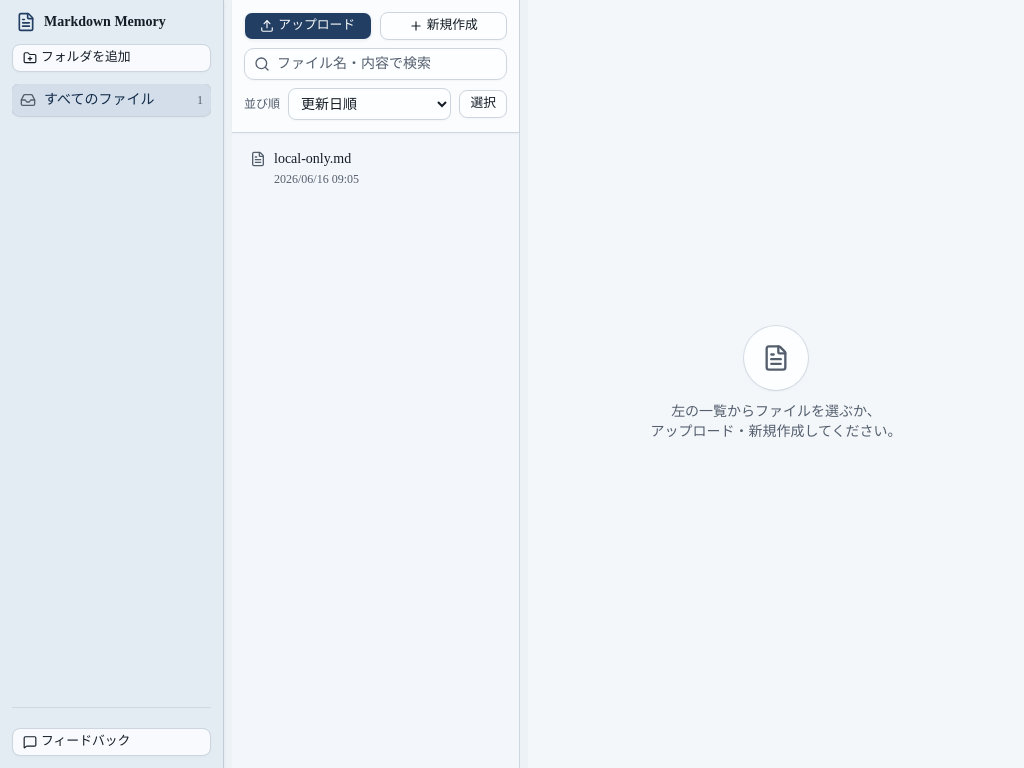
MarkdownWorkspace › 本文検索に失敗した場合はエラーと空結果を表示する
In the field labelled "ファイル名・内容で検索": (376, 64) [244,48,507,80], type "needle"
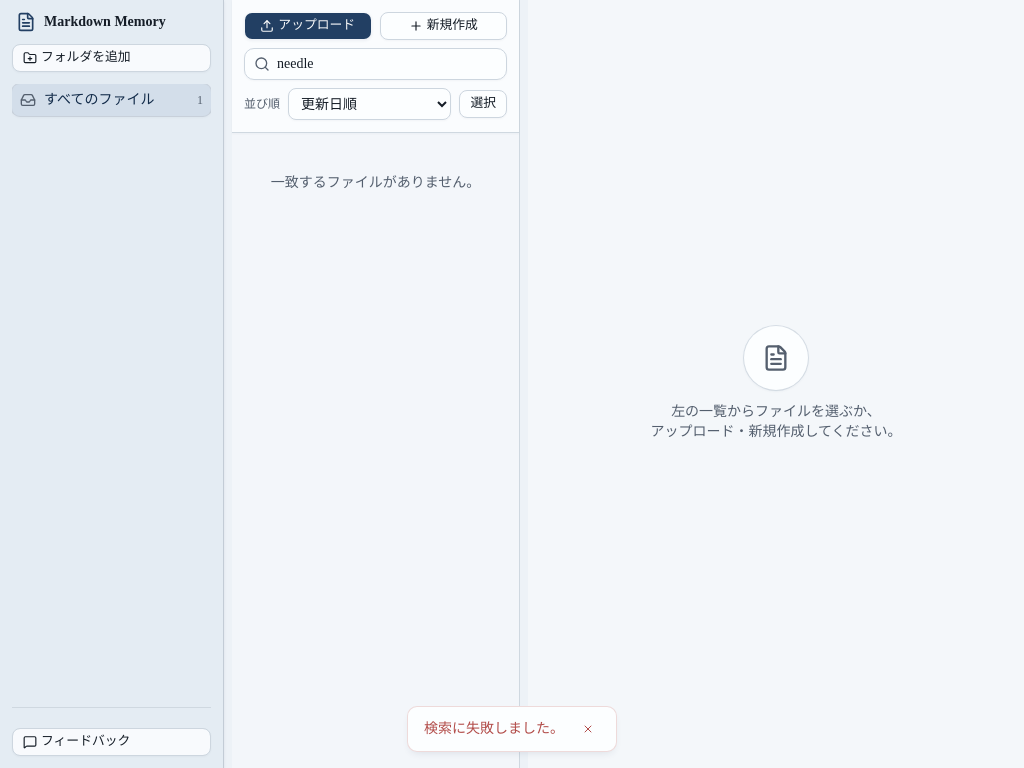
Result: the message reads "検索に失敗しました。" at [424,721,564,736]
Result: the list item "一致するファイルがありません。" is shown at [271,175,480,190]
